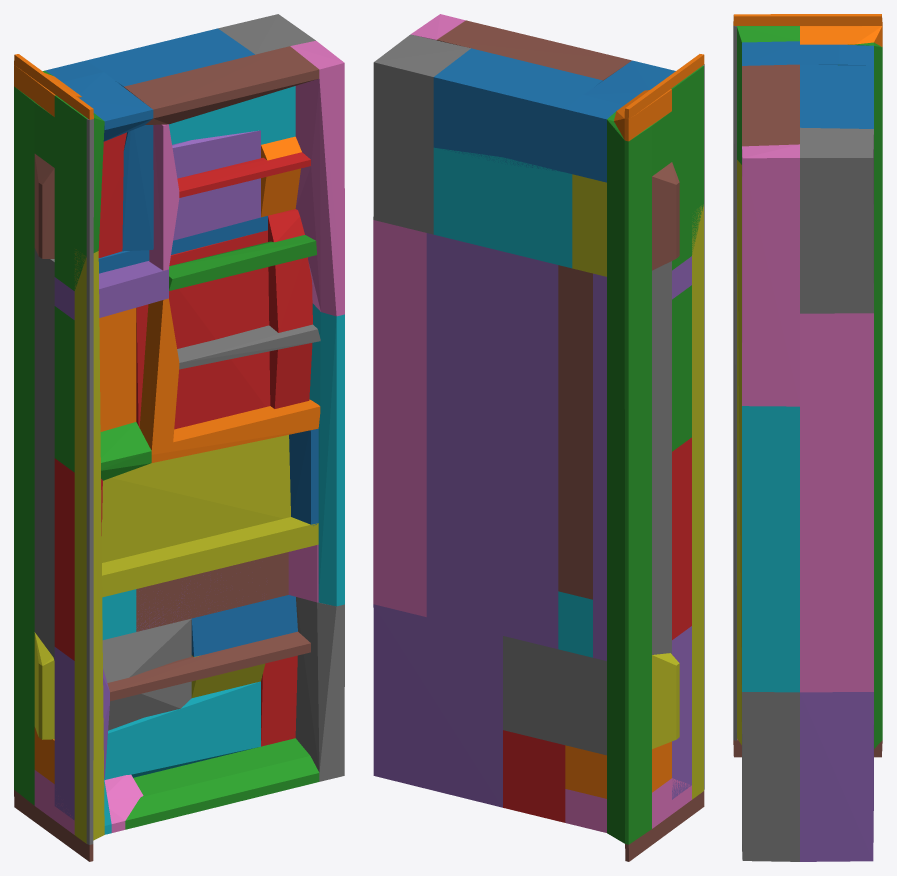
Rendered from Drawer_03_cvx.obj.
3 views of the same model, side by side, from view 1: azimuth 30°, elevation 25°; view 2: azimuth 150°, elevation 25°; view 3: azimuth 270°, elevation 25° (orthographic).
Parts seen in each view (by area): view 1: scenes/apartment_0000_coacd/output/Unknown/Kitchen_Oven/Drawer_0; view 2: scenes/apartment_0000_coacd/output/Unknown/Kitchen_Oven/Drawer_0; view 3: scenes/apartment_0000_coacd/output/Unknown/Kitchen_Oven/Drawer_0.
Part boxes in pixels (bbox=[...]): scenes/apartment_0000_coacd/output/Unknown/Kitchen_Oven/Drawer_0: bbox=[14, 14, 344, 861]; scenes/apartment_0000_coacd/output/Unknown/Kitchen_Oven/Drawer_0: bbox=[373, 14, 704, 861]; scenes/apartment_0000_coacd/output/Unknown/Kitchen_Oven/Drawer_0: bbox=[733, 14, 882, 861].
Bounding box in the file's own units: 0.6287 × 1.66 × 0.303.
